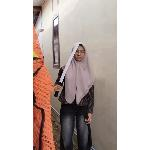Pedang: (49, 39, 85, 97)
